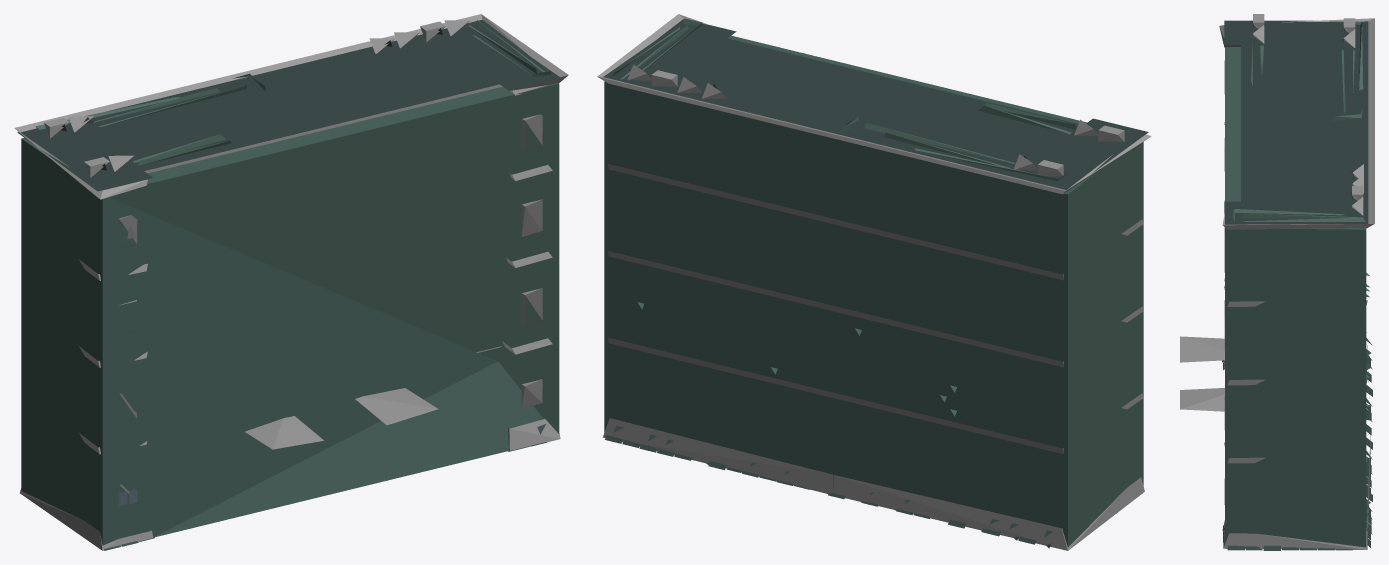
The model's file is 4Story_Wide_2Doors_lod.glb.
The picture shows the model from 3 angles, left to right: view 1: azimuth 30°, elevation 25°; view 2: azimuth 150°, elevation 25°; view 3: azimuth 270°, elevation 25°; orthographic projection. The views are drawn at different scales.
Visible parts, largest first — view 1: 4Story_Wide_2Doors_Mat; view 2: 4Story_Wide_2Doors_Mat; view 3: 4Story_Wide_2Doors_Mat.
Boxes of the visible parts, left/top/right/bottom form: 4Story_Wide_2Doors_Mat: left=14, top=14, right=568, bottom=550; 4Story_Wide_2Doors_Mat: left=597, top=14, right=1151, bottom=550; 4Story_Wide_2Doors_Mat: left=1180, top=14, right=1374, bottom=550.
Bounding box in the file's own units: 6.78 × 5.12 × 2.7.
